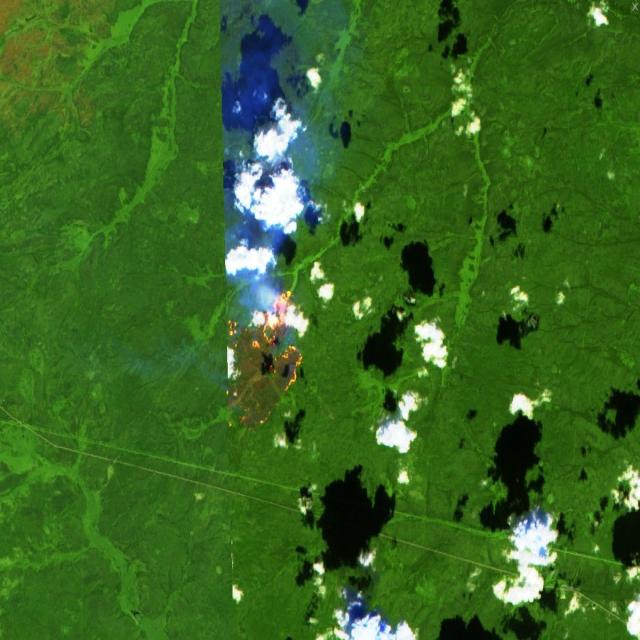fire: (227, 286, 307, 398)
